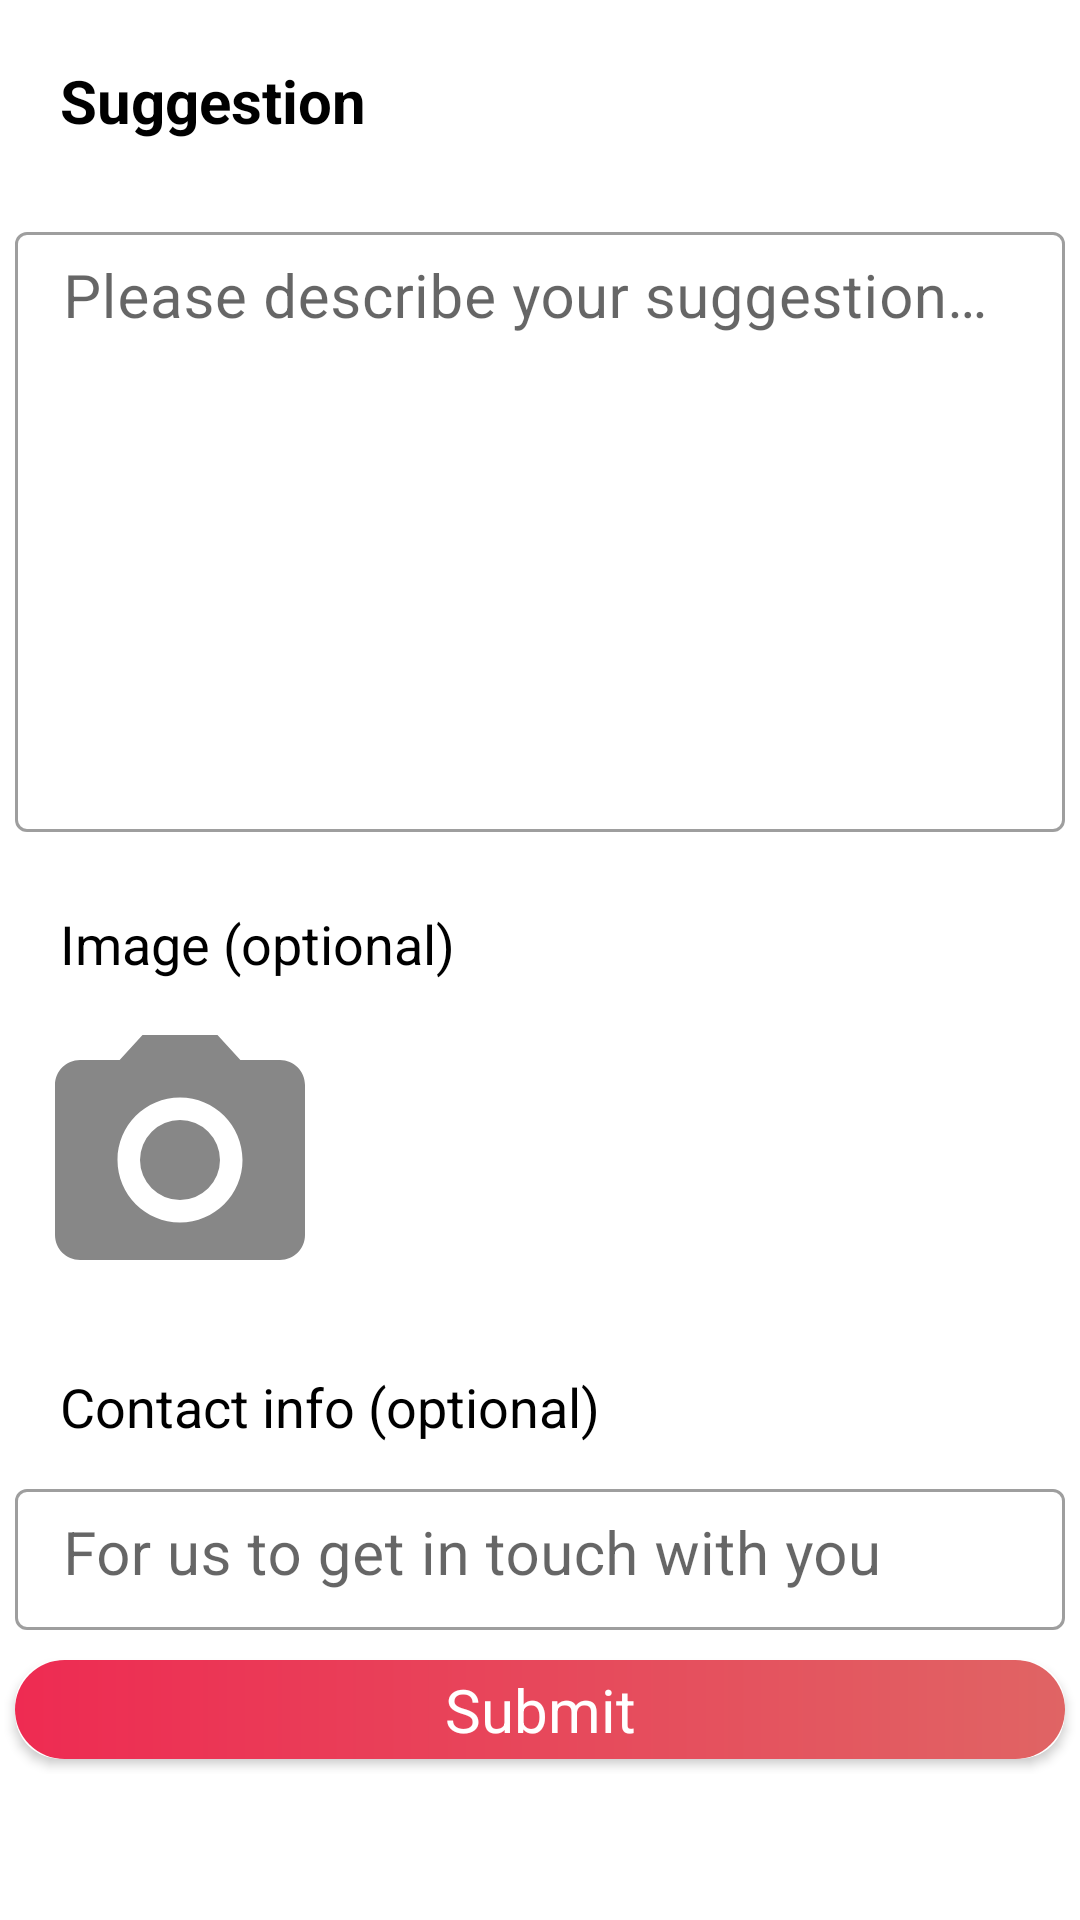

Icons on this 1080px×1920px Android screen, each with the point to tap as [x,y]:
camera: [180,1147]
